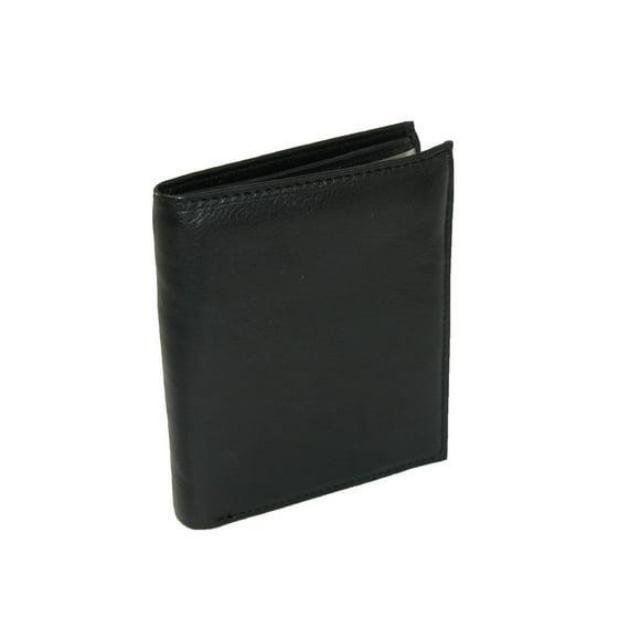wallet: (145, 113, 455, 533)
